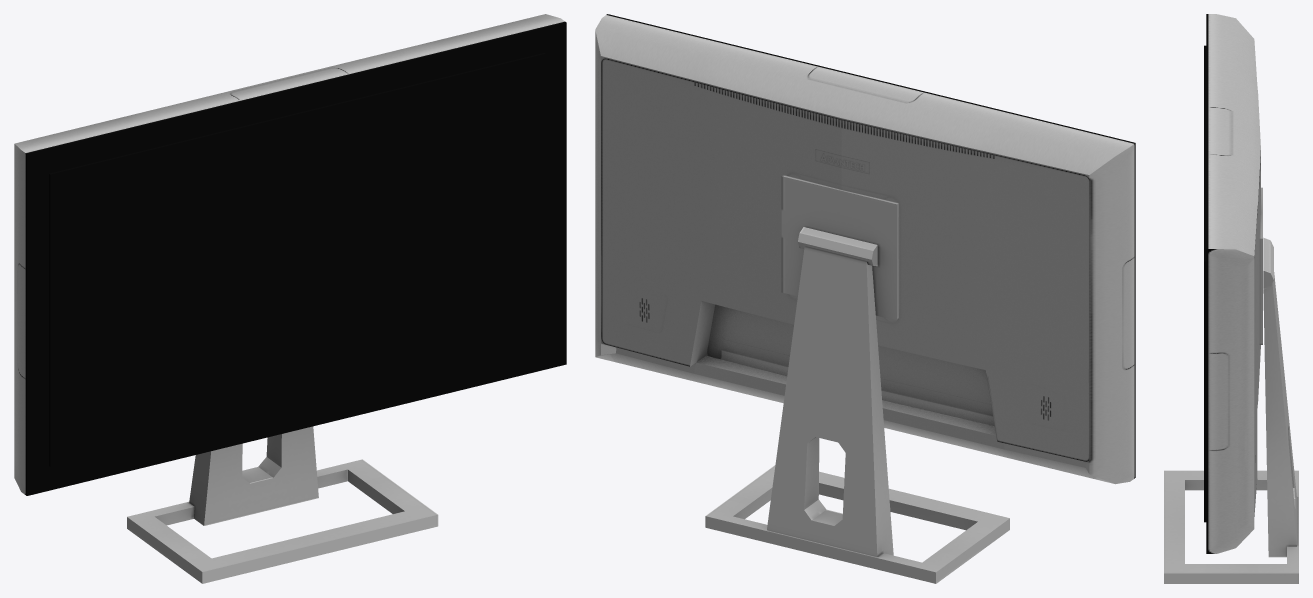
Rendered from UTC-320hst.fbx.
3 renders of one model, left to right at view 1: azimuth 30°, elevation 25°; view 2: azimuth 150°, elevation 25°; view 3: azimuth 270°, elevation 25°, orthographic. The views are drawn at different scales.
Visible parts, largest first — view 1: C, A, D, B; view 2: B, D, A; view 3: B, D, A, C.
Boxes of the visible parts, x1,y1,x2,y2 form: C: (49, 53, 545, 466); A: (25, 21, 566, 495); D: (127, 426, 438, 583); B: (14, 14, 564, 494); B: (595, 15, 1134, 484); D: (705, 175, 1009, 583); A: (606, 14, 1135, 477); B: (1208, 14, 1260, 553); D: (1164, 187, 1298, 583); A: (1206, 14, 1208, 553); C: (1204, 45, 1206, 522).
Bounding box in the file's own units: 52.03 × 41.43 × 12.62.
Materials: 1 (1 with a texture image).
